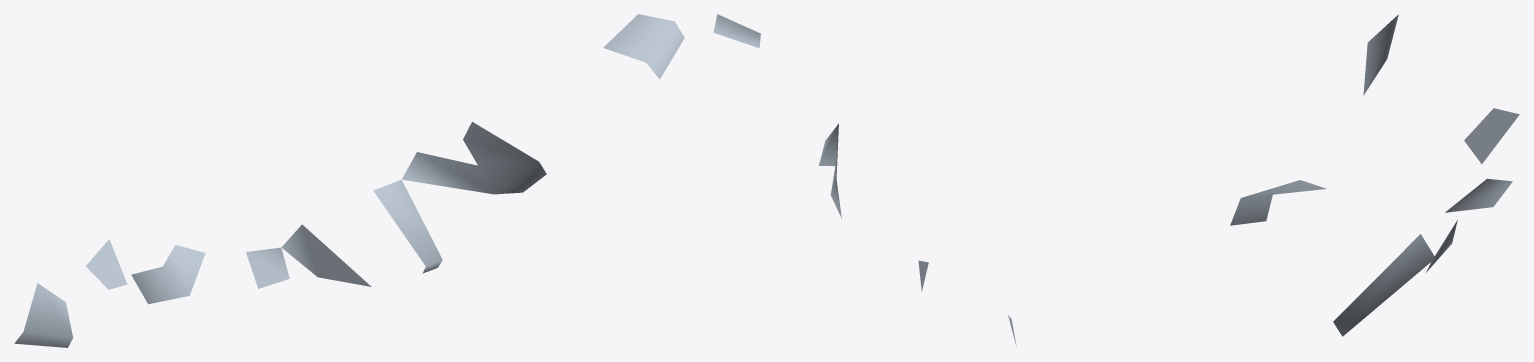
The model's file is palmar-carpometacarpal-ligaments-l.glb.
3 views of the same model, side by side, from view 1: azimuth 30°, elevation 25°; view 2: azimuth 150°, elevation 25°; view 3: azimuth 270°, elevation 25° (orthographic). The views are drawn at different scales.
Parts seen in each view (by area): view 1: Palmar carpometacarpal ligaments.l; view 2: Palmar carpometacarpal ligaments.l; view 3: Palmar carpometacarpal ligaments.l.
Part boxes in pixels (x1,y1,x2,y2): Palmar carpometacarpal ligaments.l: (14,14,684,347); Palmar carpometacarpal ligaments.l: (713,14,1016,346); Palmar carpometacarpal ligaments.l: (1230,14,1519,336).
Bounding box in the file's own units: 0.0429 × 0.0153 × 0.0129.
